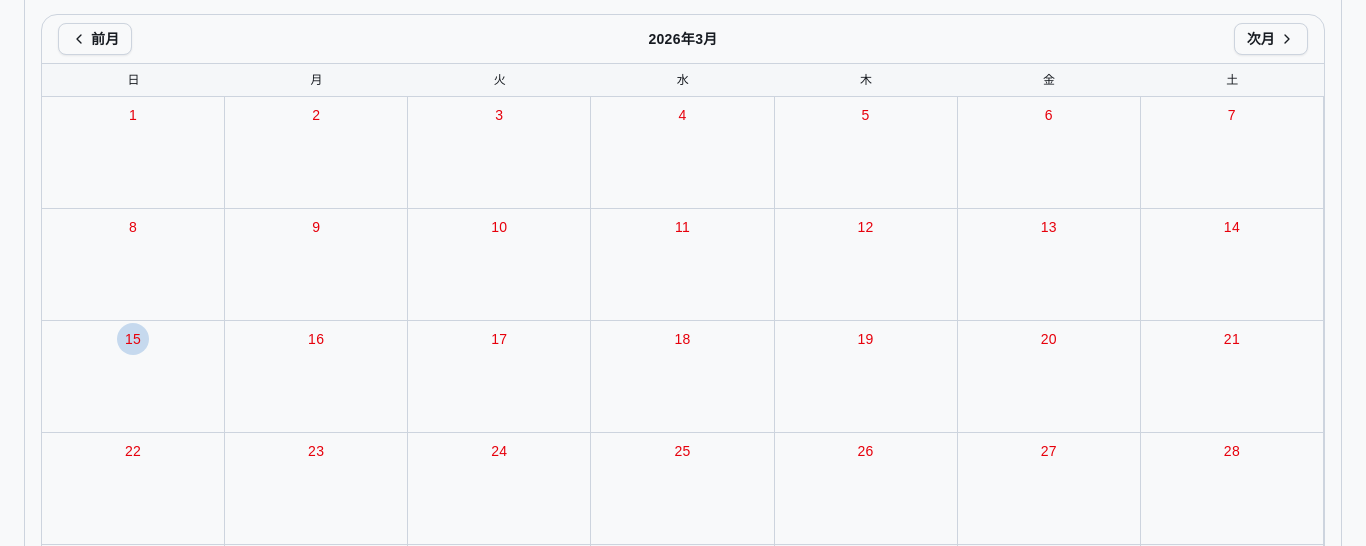
Test: bulk shift flow integration › shows the selected date count and disables applying defaults until a date is selected
The width and height of the screenshot is (1366, 546).
(page scrolled)
Click the button "20": click(1049, 377) [958, 321, 1141, 433]
(page scrolled)
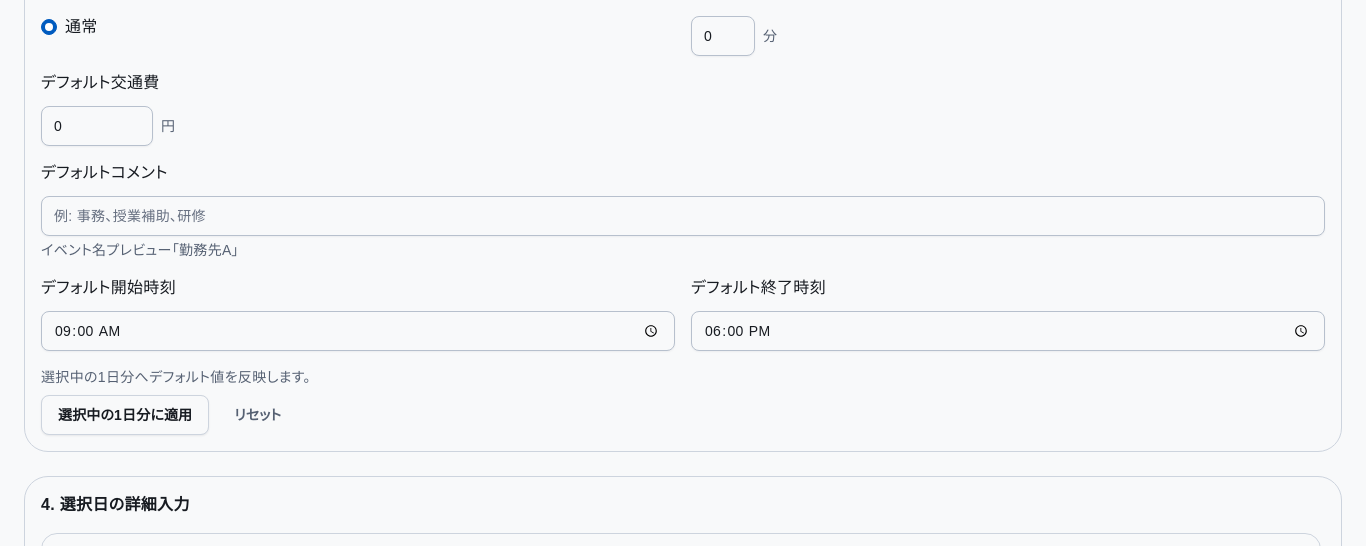
Expected: the button "選択中の1日分に適用" is enabled, [41, 395, 209, 435]
Expected: the text "選択中の1日分へデフォルト値を反映します。" is shown, [41, 369, 311, 385]
